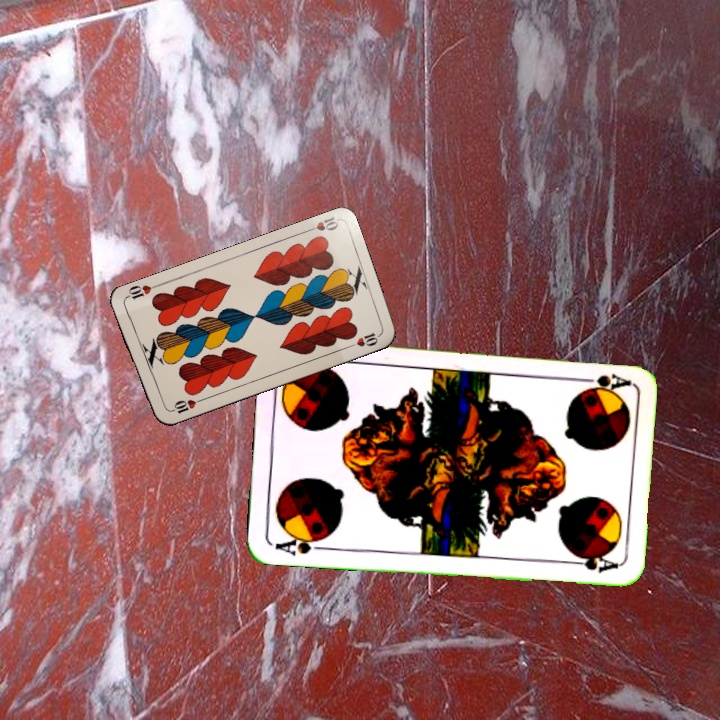H10: (301, 213, 341, 235), (165, 395, 205, 416)
SA: (271, 530, 330, 558), (572, 369, 632, 394)
